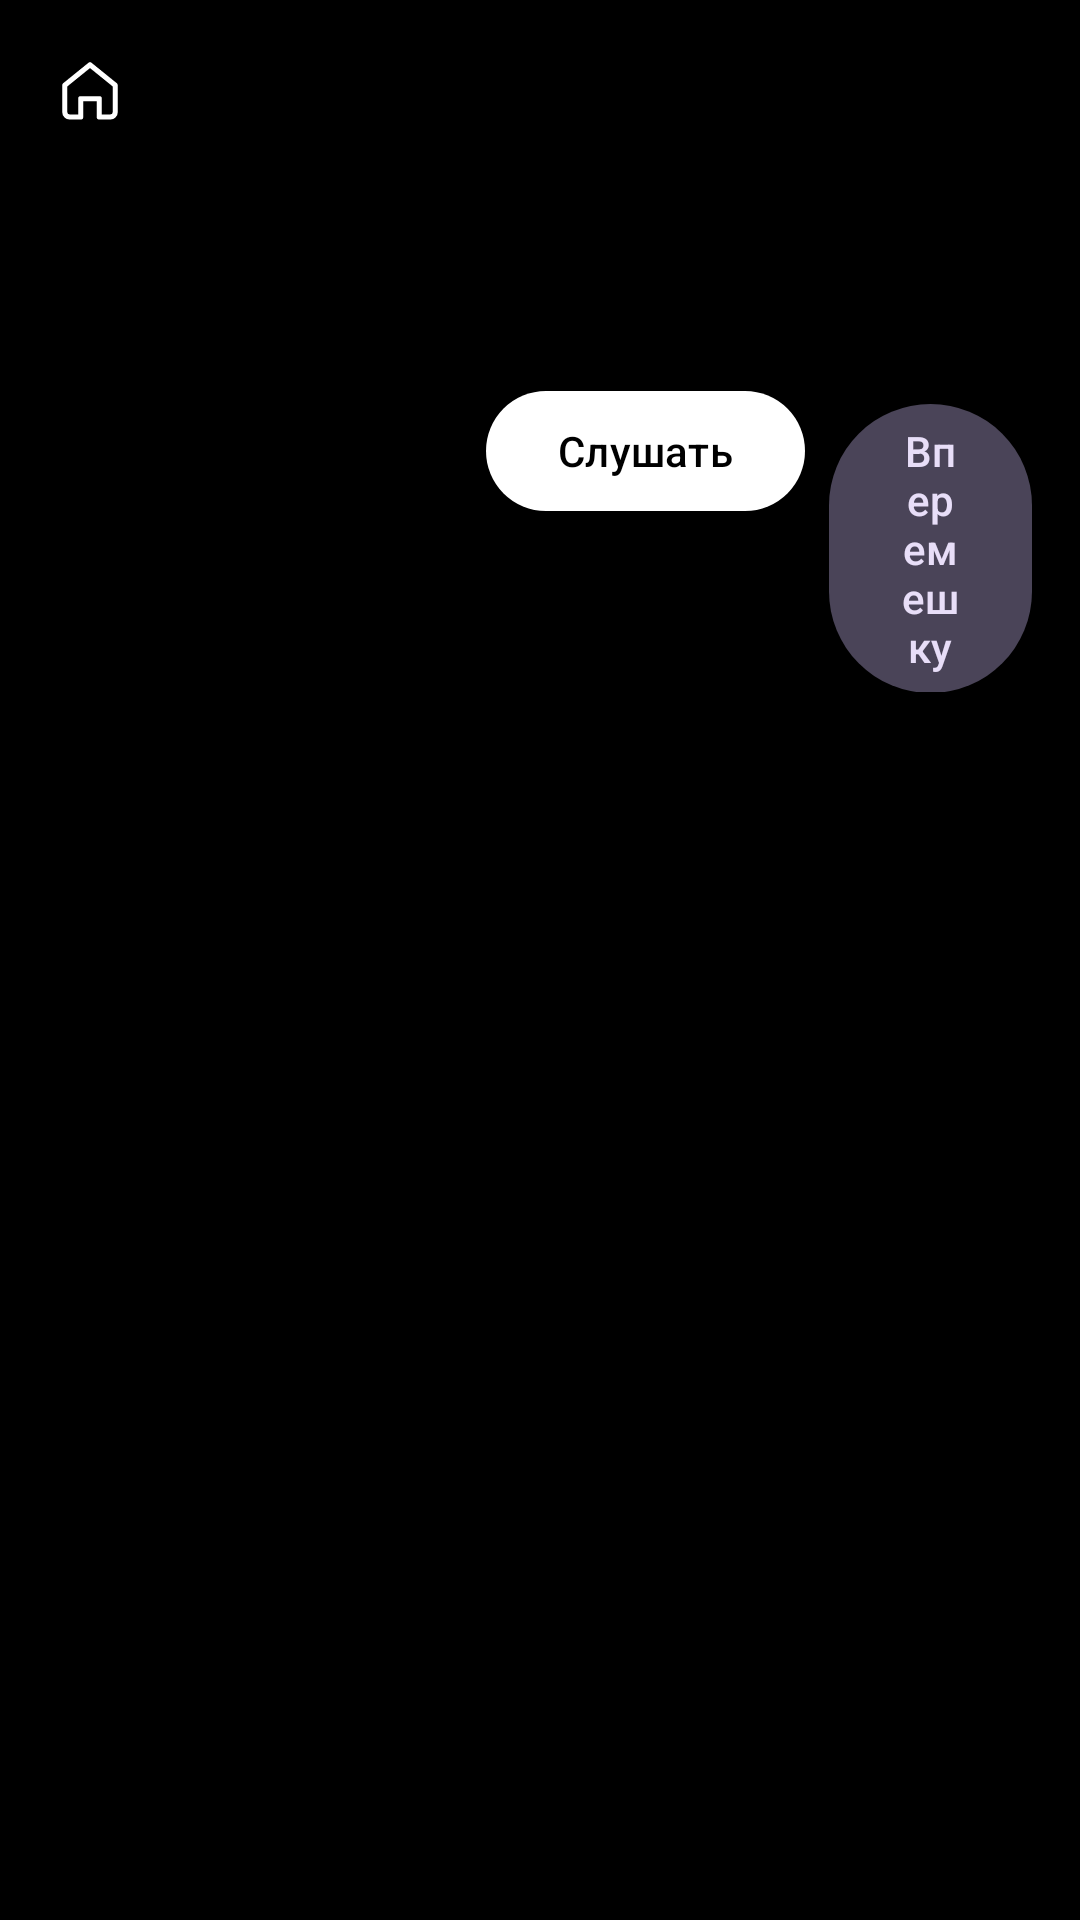

Icon bounding boxes for this 1080x1920 phone screenshot, format bbox=[x1, y1, x2, y2]:
home: bbox=[62, 62, 118, 120]
